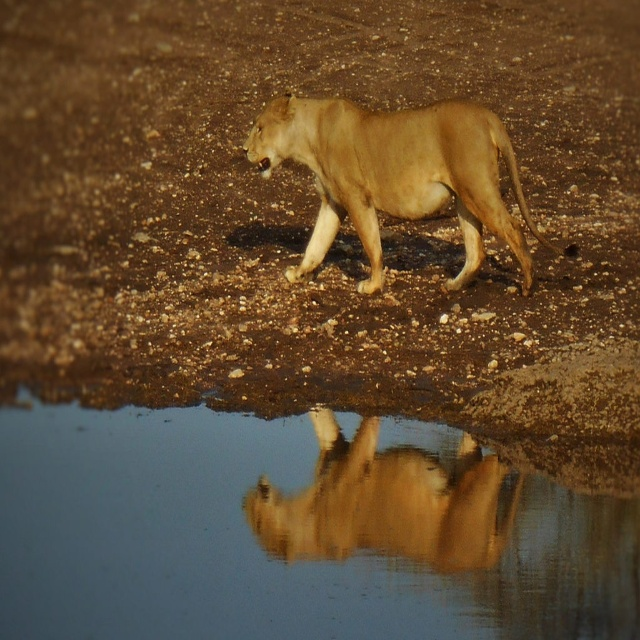Lion: (242, 92, 580, 296)
